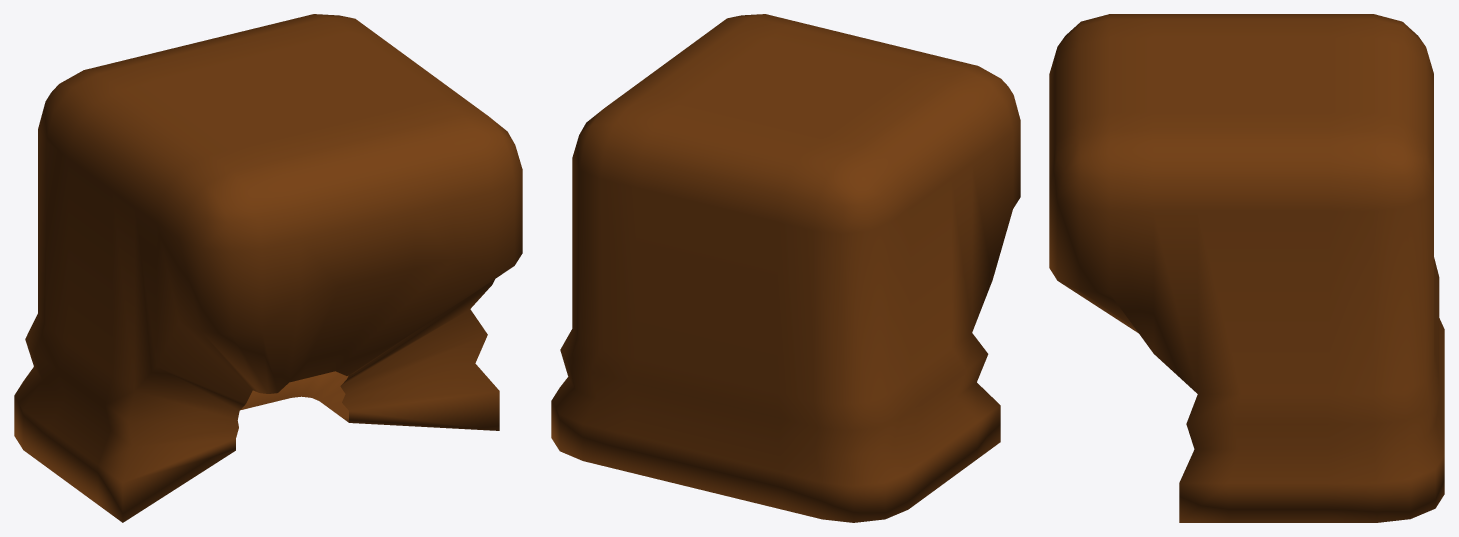
File: hairWavey.fbx
3 views of the same model, side by side, from view 1: azimuth 30°, elevation 25°; view 2: azimuth 150°, elevation 25°; view 3: azimuth 270°, elevation 25° (orthographic). The views are drawn at different scales.
Parts seen in each view (by area): view 1: Wavey Hair; view 2: Wavey Hair; view 3: Wavey Hair.
Boxes of the visible parts, x1,y1,x2,y2 form: Wavey Hair: [14, 14, 522, 522]; Wavey Hair: [551, 14, 1020, 522]; Wavey Hair: [1049, 14, 1444, 522].
Bounding box in the file's own units: 62.33 × 57.01 × 56.78.
